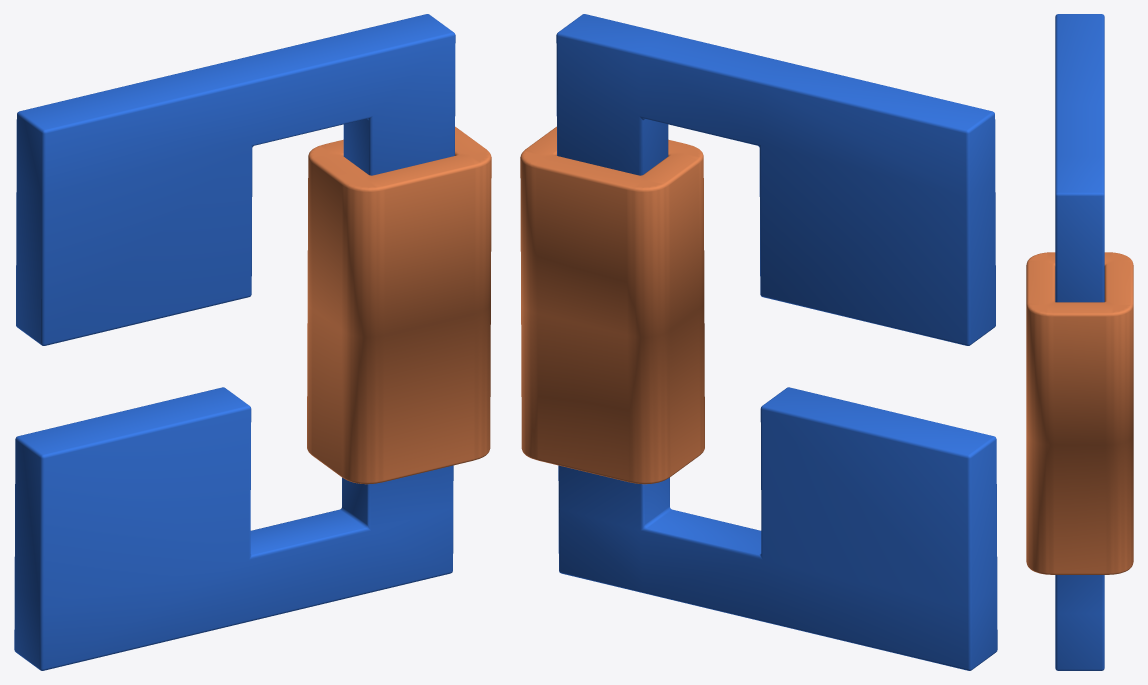
Rendered from horizontal_corrector.glb.
The picture shows the model from 3 angles, left to right: view 1: azimuth 30°, elevation 25°; view 2: azimuth 150°, elevation 25°; view 3: azimuth 270°, elevation 25°; orthographic projection. The views are drawn at different scales.
Parts seen in each view (by area): view 1: HorizontalCorrectorCore, HorizontalCorrectorCoil; view 2: HorizontalCorrectorCore, HorizontalCorrectorCoil; view 3: HorizontalCorrectorCoil, HorizontalCorrectorCore.
Boxes of the visible parts, x1=… form: HorizontalCorrectorCore: x1=14, y1=14, x2=455, y2=670; HorizontalCorrectorCoil: x1=307, y1=126, x2=491, y2=484; HorizontalCorrectorCore: x1=556, y1=14, x2=997, y2=670; HorizontalCorrectorCoil: x1=520, y1=126, x2=704, y2=484; HorizontalCorrectorCoil: x1=1026, y1=252, x2=1133, y2=574; HorizontalCorrectorCore: x1=1055, y1=14, x2=1104, y2=670.
Size of the model in its own units: 1.6 by 1.86 by 0.3758.
